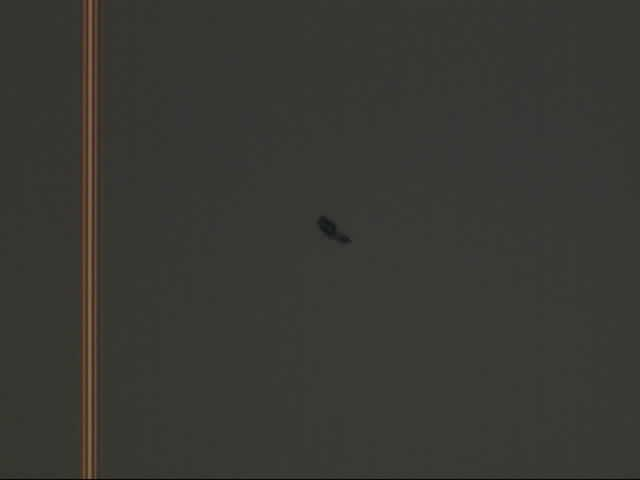PIQ PARTICLE: (313, 213, 358, 253)
